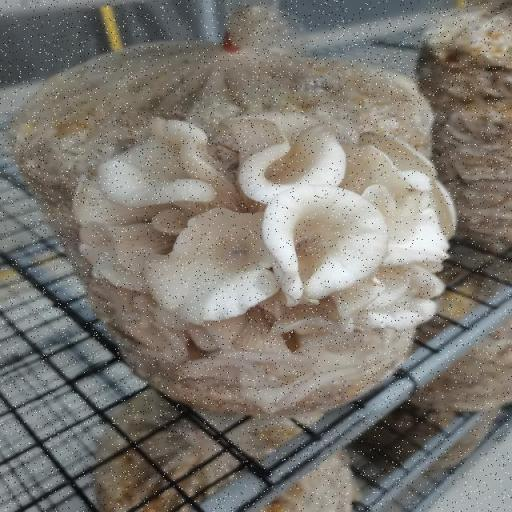White Oyster Mushroom: (61, 98, 451, 334)
